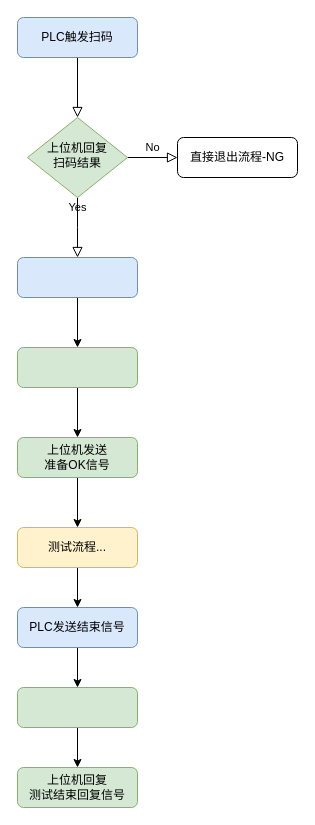
Image size: 315x825. Some labels were removed from this diagram. The centre of each missing label's shape, as x and y in pixels:
PLC发送开始信号: (x=77, y=277)
上位机写入测试OK/NG: (x=77, y=707)
上位机回复 开始回复信号: (x=77, y=367)
